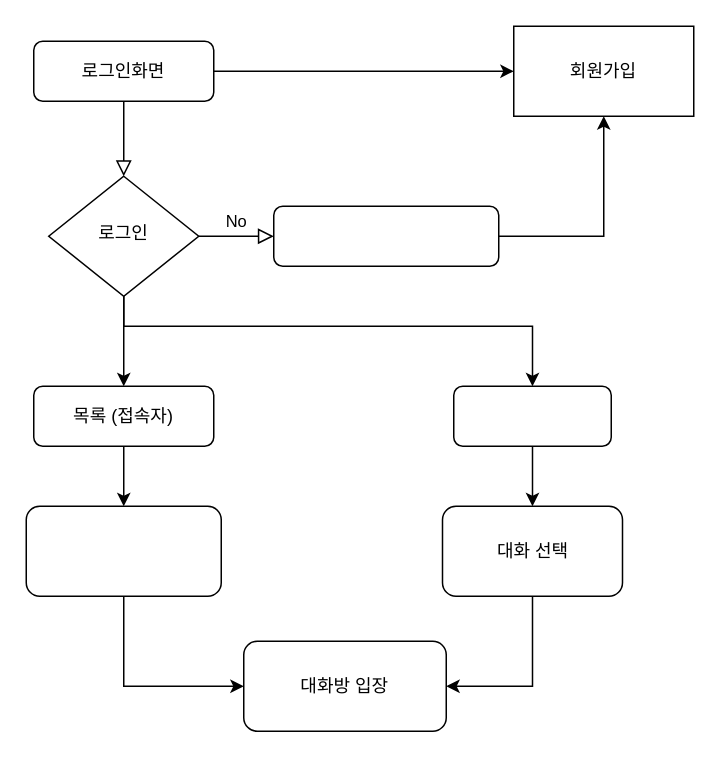
Some shapes in this 720 by 758 pixel diagram are drawn without their labels. The centre of each missing label's shape, as x and y in pixels:
1. 존재하지않는 ID입니다. 2. PWD를 확인해주세요: (385,235)
대화 목록: (531,415)
아이디 선택 > 대화하기: (123,550)
